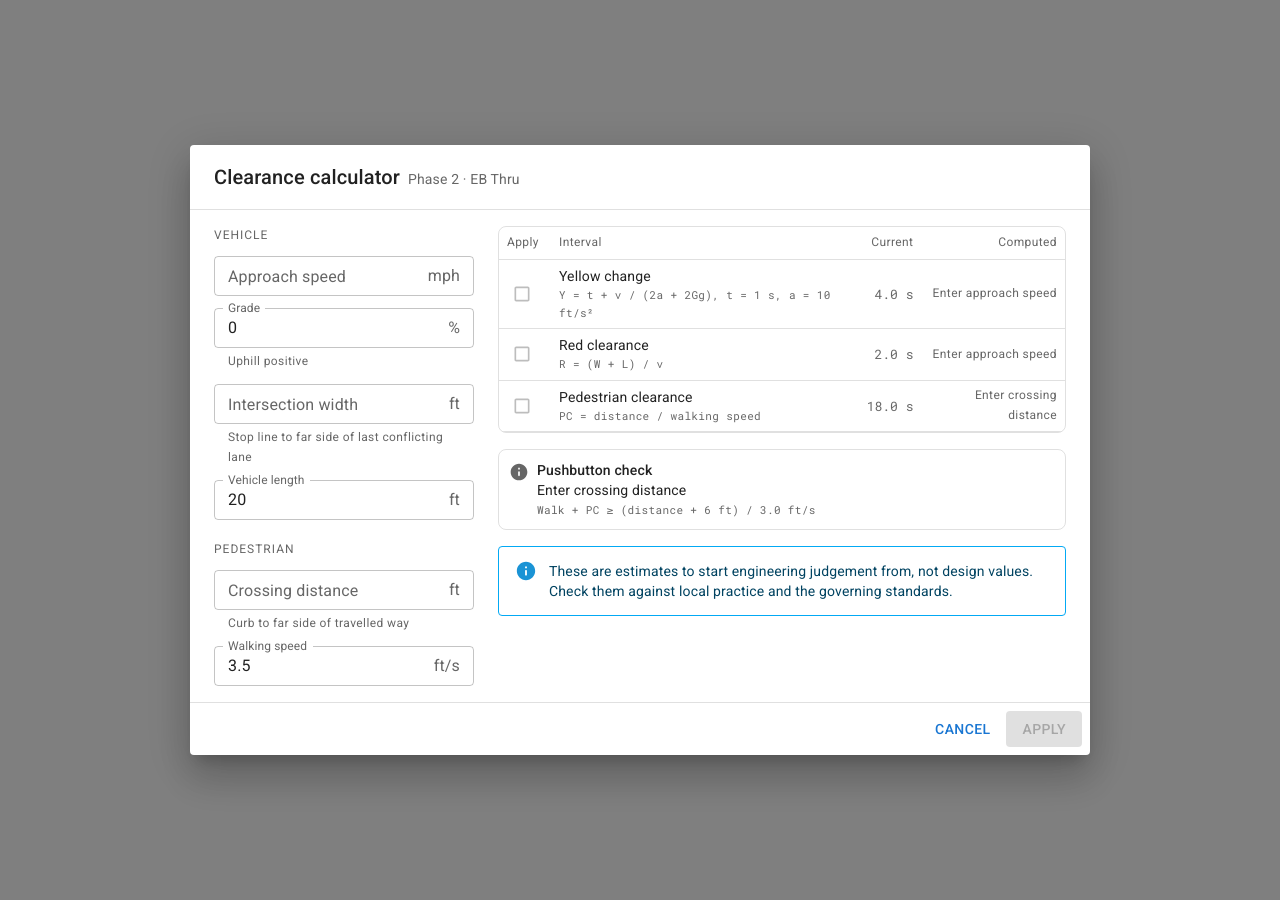
Scenario: ClearanceDialog › shows engine range errors instead of throwing and disables applying them
Type "0" into the field labelled "Approach speed".
click(317, 276); type("0")  # box [214, 256, 420, 296]
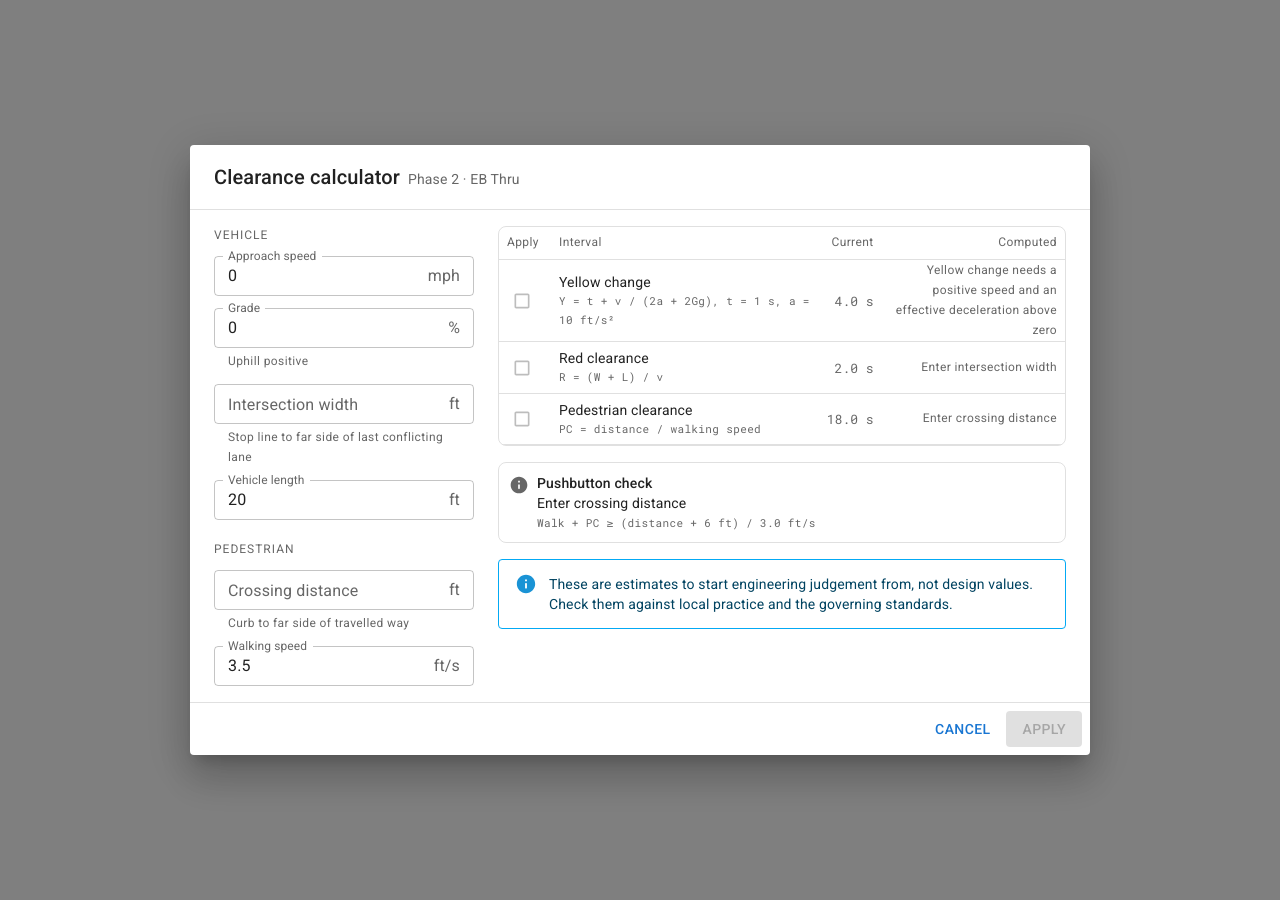
Type "60" into the field labelled "Intersection width".
click(327, 404); type("60")  # box [214, 384, 441, 424]
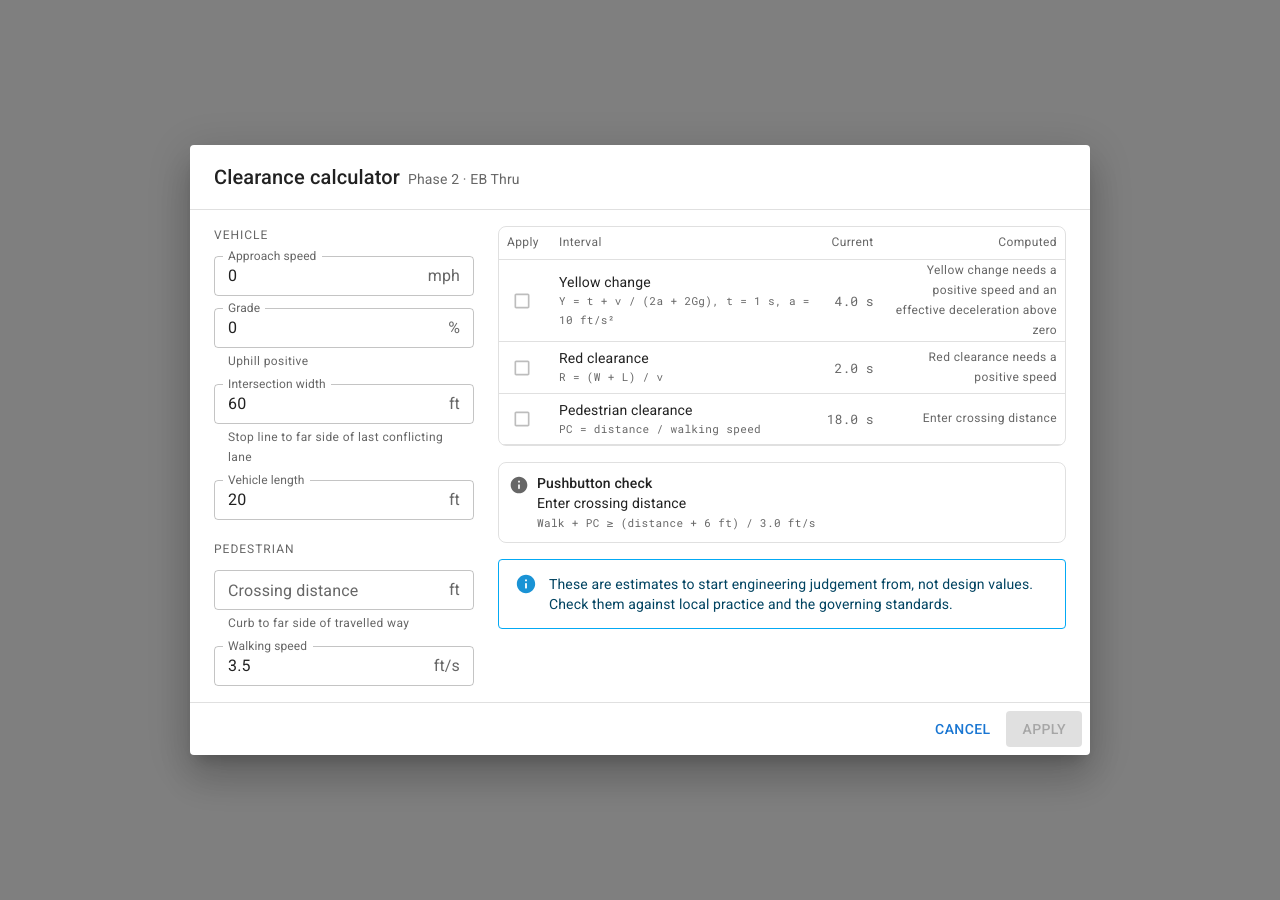
expect the checkbox named "Apply yellow change" is disabled: met, box [512, 291, 532, 311]
Replace the text in the field labelled "Walking speed" with "0" at (320, 666), box [214, 646, 426, 686]
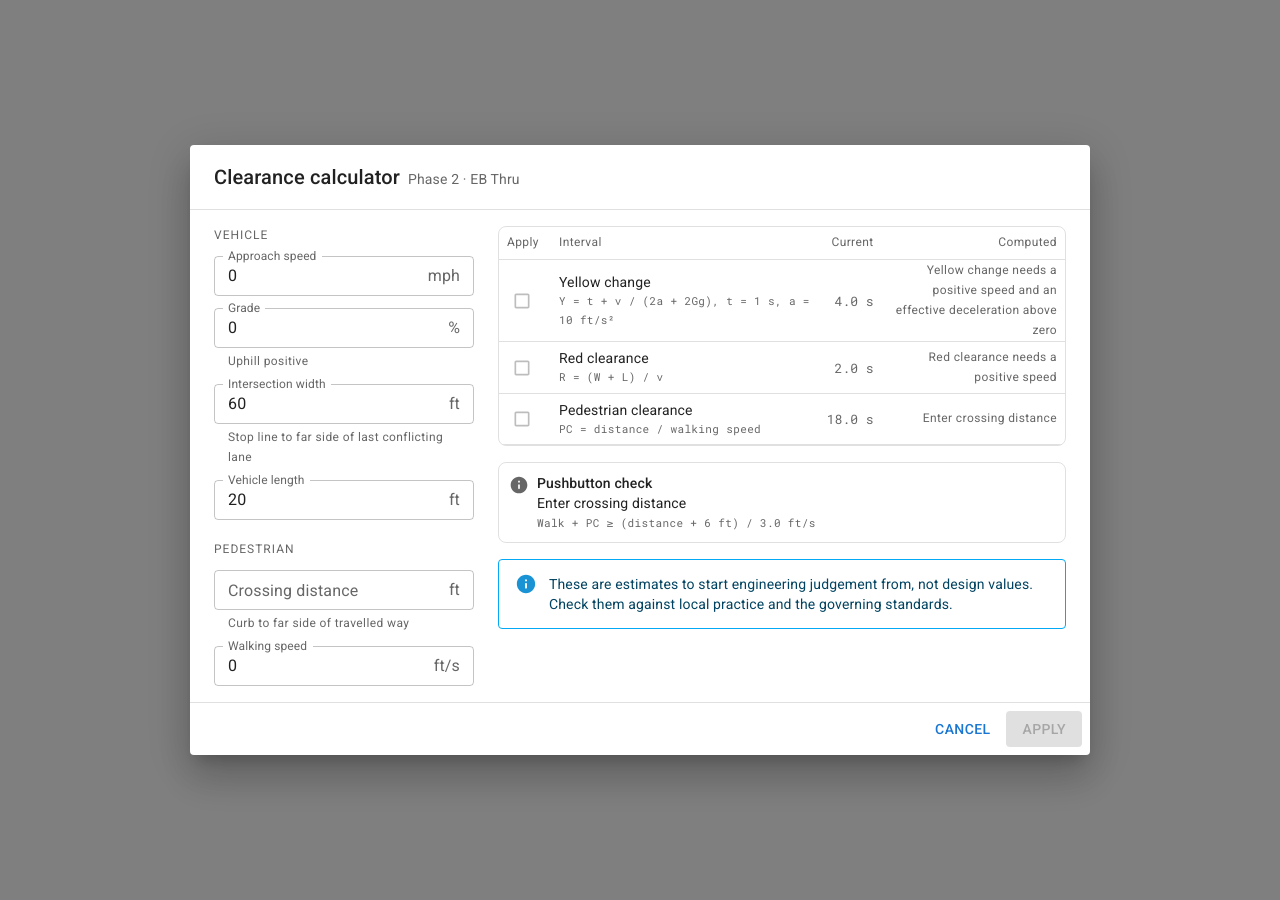
Type "48" into the field labelled "Crossing distance".
click(327, 590); type("48")  # box [214, 570, 441, 610]
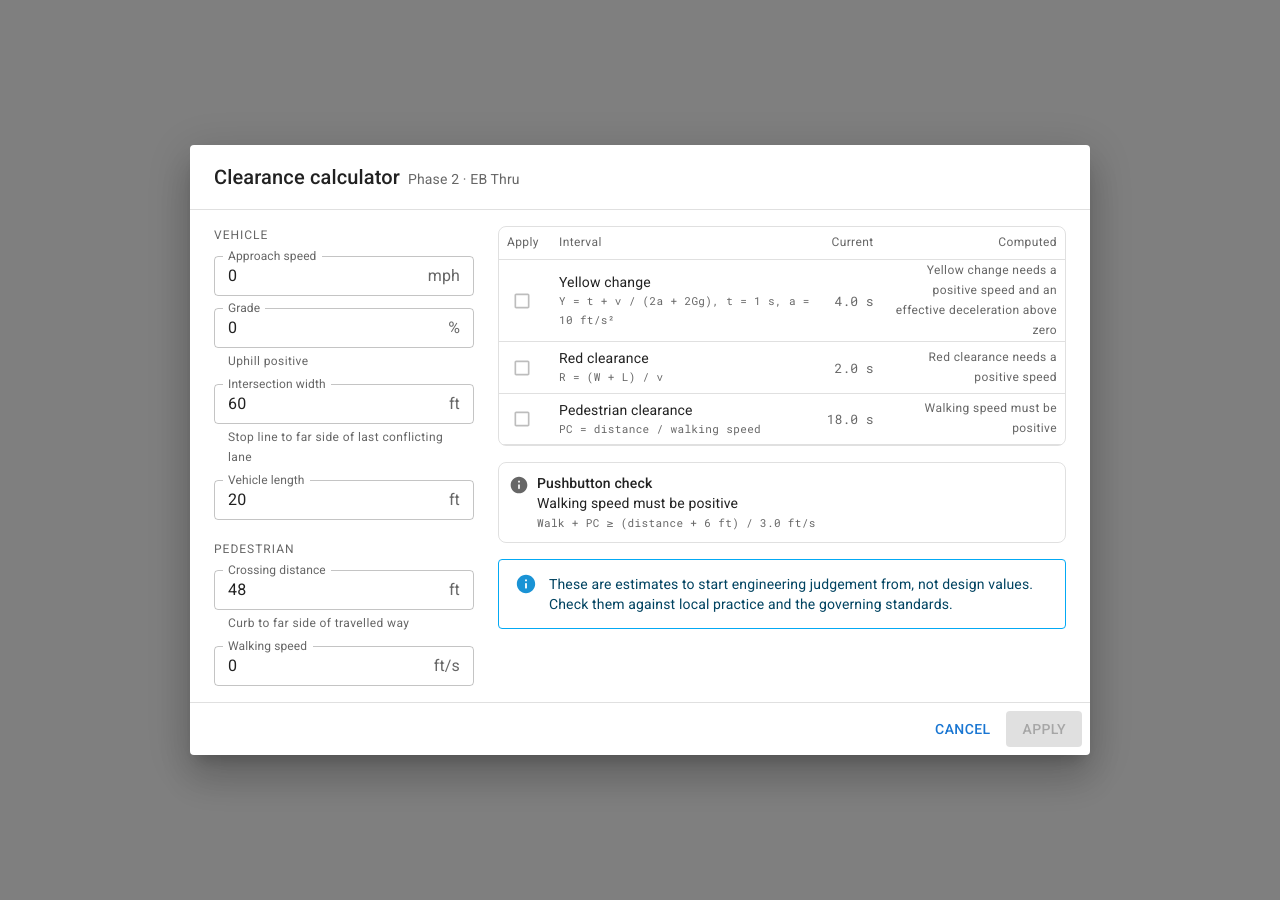
expect the text "Walking speed must be positive" in the row of "Pedestrian clearance" is shown: met, box [925, 401, 1057, 435]
